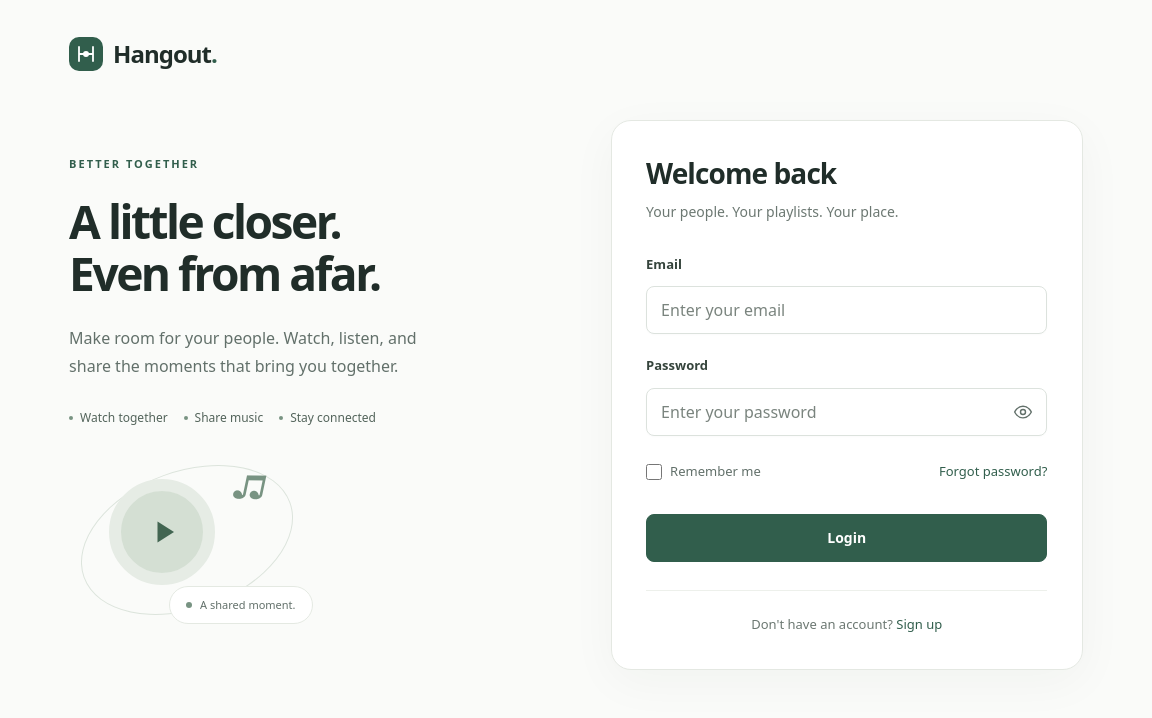
Login Page › shows error when login fails
Step 1. Type "test@example.com" into the field with placeholder "Enter your email" → coordinates (847, 310), box left=646, top=286, right=1047, bottom=334
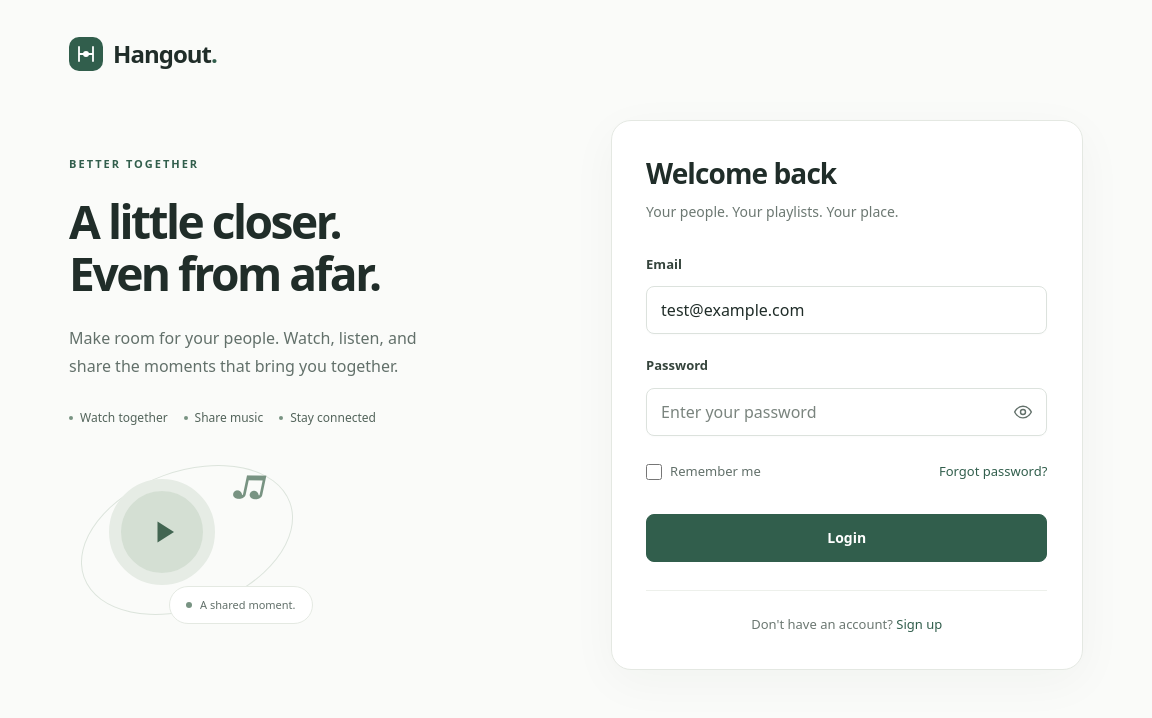
Step 2. Type "wrongpassword" into the password field with placeholder "Enter your password" → coordinates (847, 412), box left=646, top=388, right=1047, bottom=436
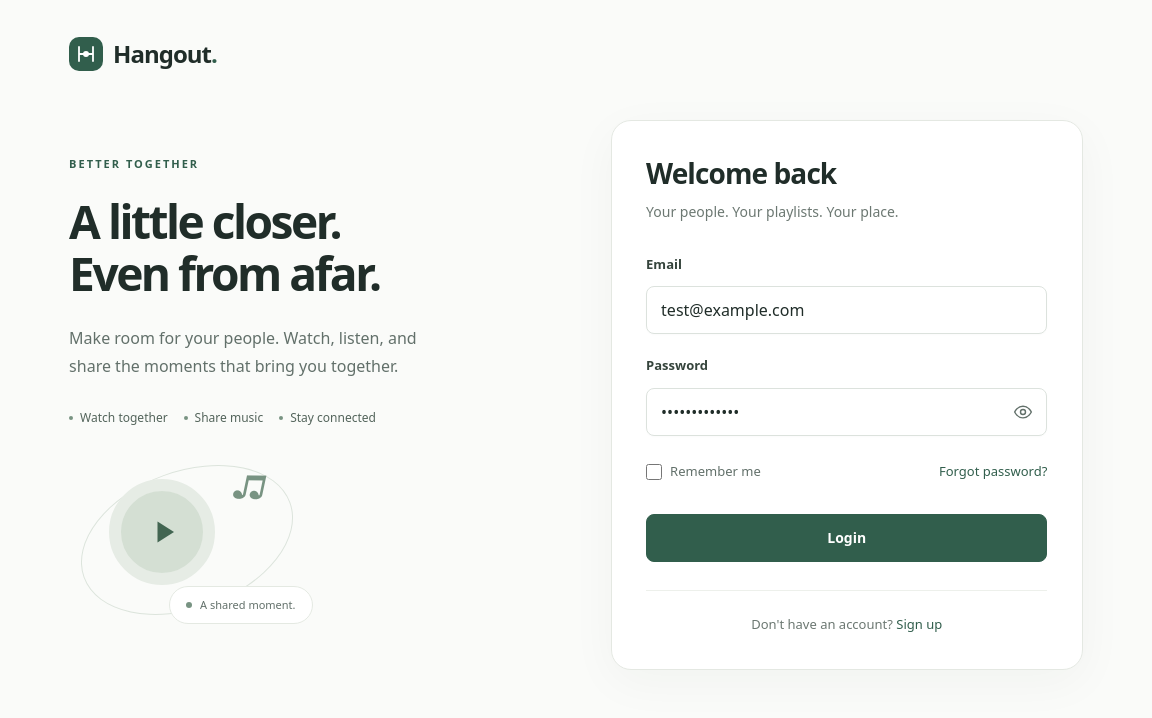
Step 3. Click the button "Login" → coordinates (847, 538), box left=646, top=514, right=1047, bottom=562
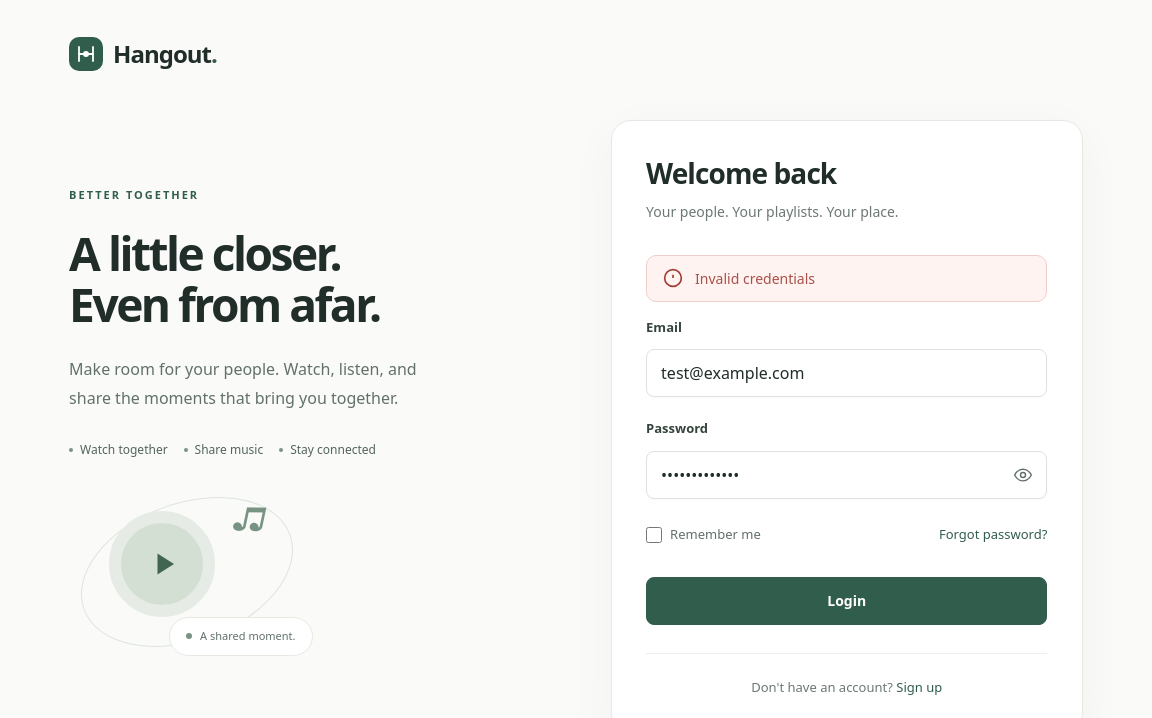
expect the text "Invalid credentials" is shown: met, box left=695, top=269, right=815, bottom=288
